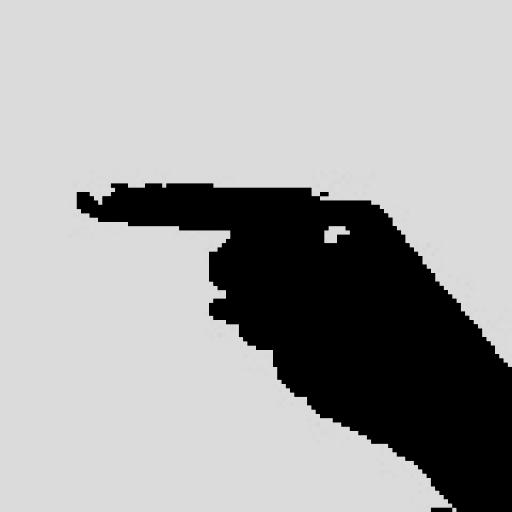index_right: (76, 180, 512, 402)
